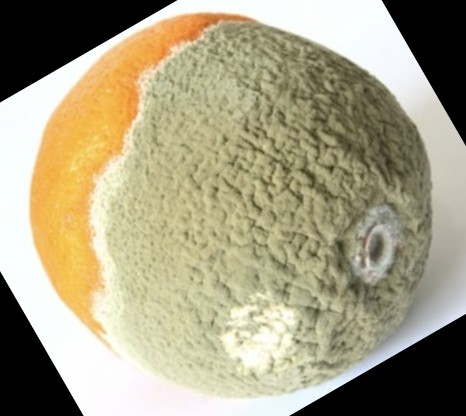rotten_orange: (30, 13, 433, 397)
